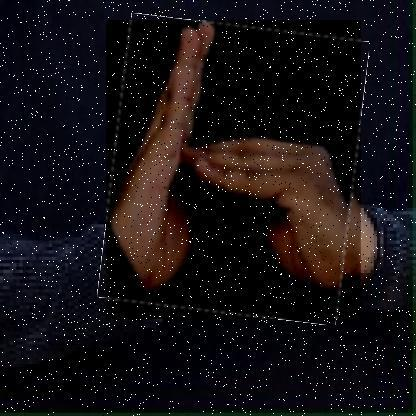Z: (106, 20, 362, 320)
